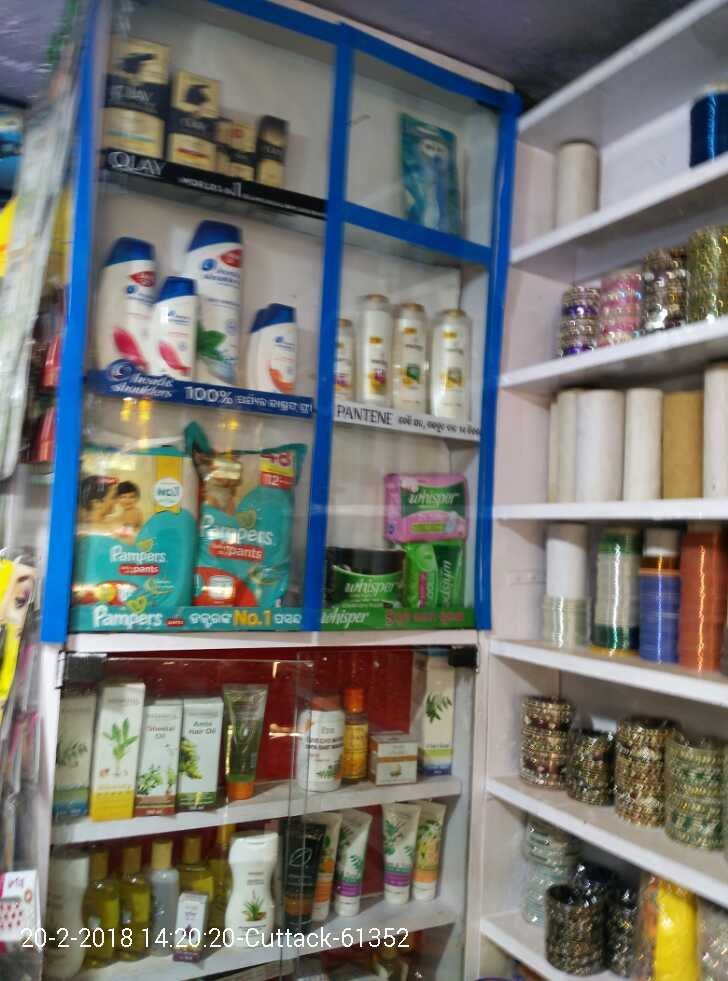venus: (404, 115, 455, 226)
